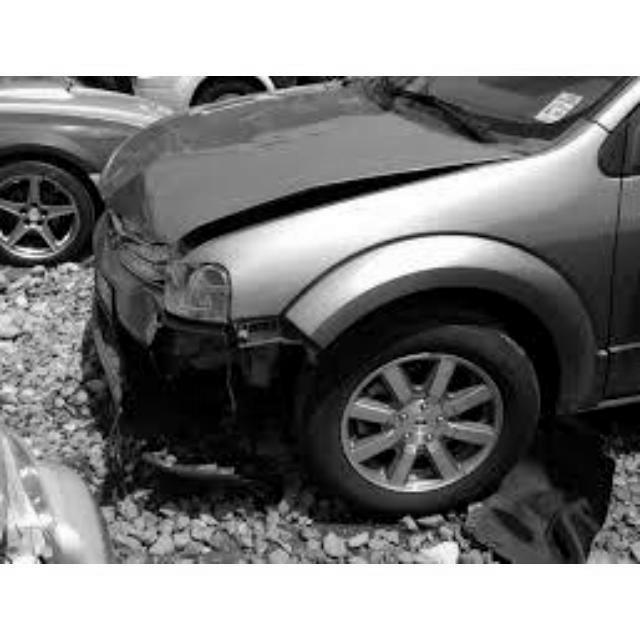bonnet-dent: (93, 109, 376, 238)
front-bumper-dent: (110, 309, 311, 460)
